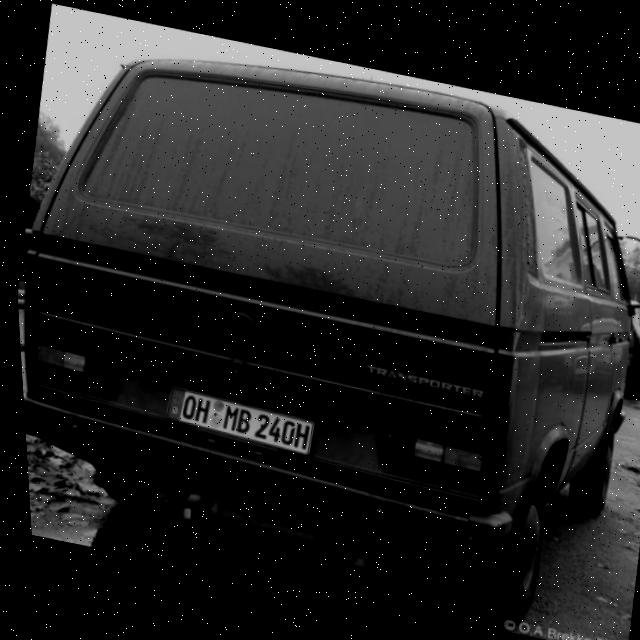license-plates: (167, 387, 314, 454)
